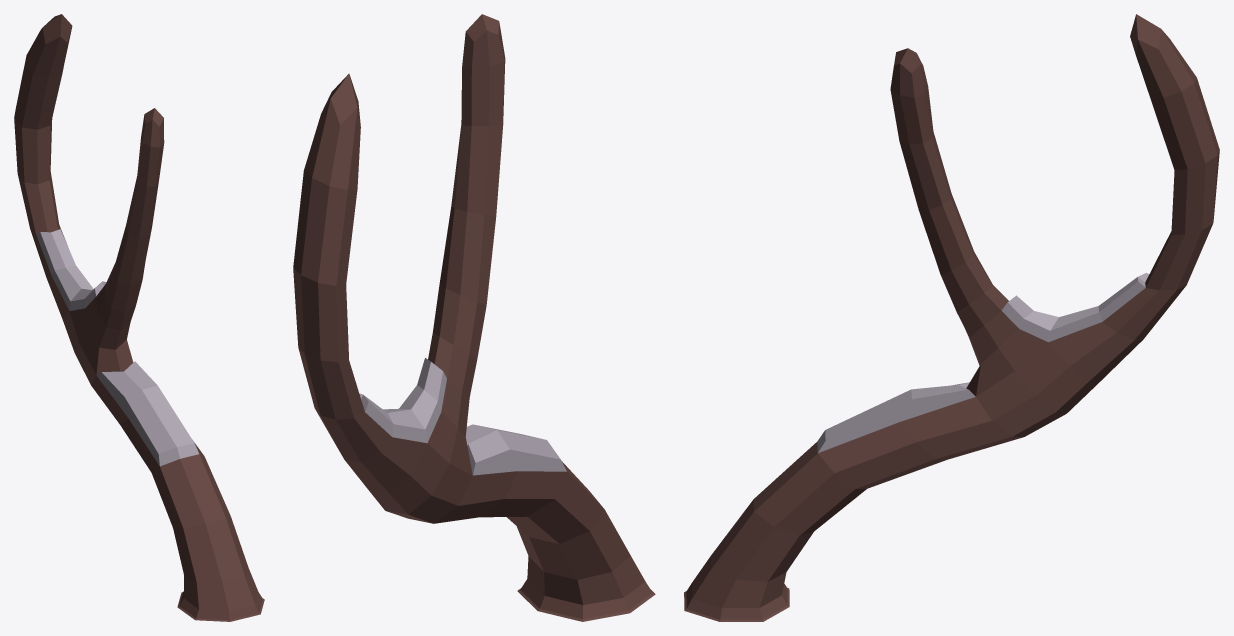
The picture shows the model from 3 angles, left to right: view 1: azimuth 30°, elevation 25°; view 2: azimuth 150°, elevation 25°; view 3: azimuth 270°, elevation 25°; orthographic projection. The views are drawn at different scales.
Visible parts, largest first — view 1: Willow_Dead_Snow_3; view 2: Willow_Dead_Snow_3; view 3: Willow_Dead_Snow_3.
Boxes of the visible parts, x1=… form: Willow_Dead_Snow_3: x1=14, y1=14, x2=264, y2=621; Willow_Dead_Snow_3: x1=293, y1=14, x2=655, y2=621; Willow_Dead_Snow_3: x1=684, y1=14, x2=1219, y2=621.
Size of the model in its own units: 0.3109 by 1.91 by 1.58.
